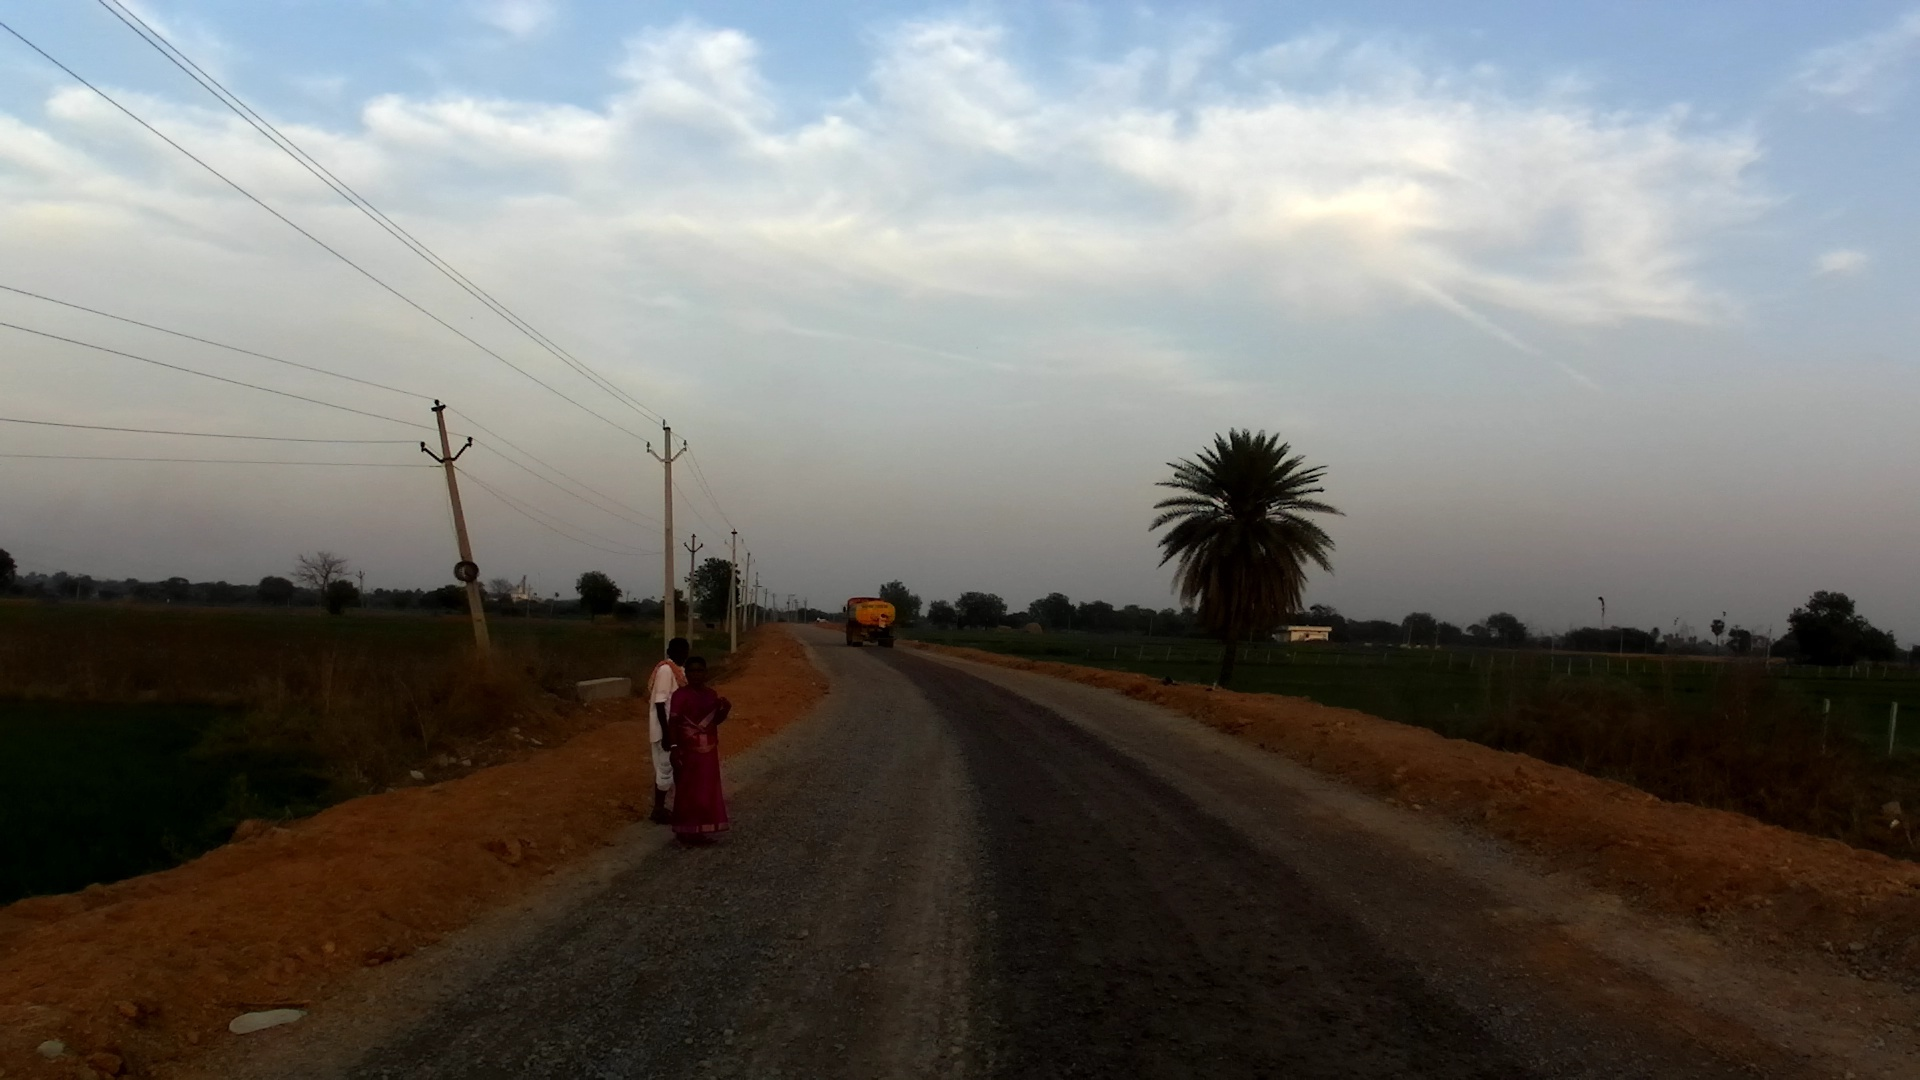person: (668, 661, 738, 849), (650, 641, 698, 831)
truck: (844, 597, 897, 654)
